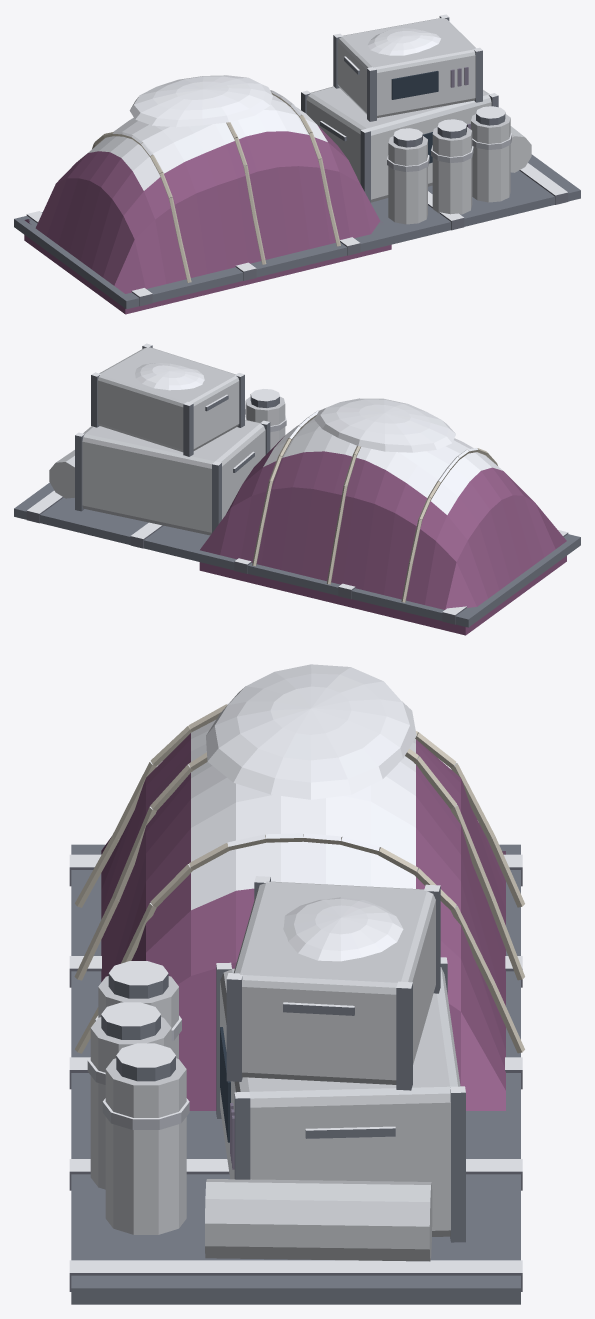
Rendered from PR_Cobertura_Carga.fbx.
3 views of the same model, one above another, from view 1: azimuth 30°, elevation 25°; view 2: azimuth 150°, elevation 25°; view 3: azimuth 270°, elevation 25° (orthographic). The views are drawn at different scales.
Visible parts, largest first — view 1: PR_Cobertura_Carga; view 2: PR_Cobertura_Carga; view 3: PR_Cobertura_Carga.
Boxes of the visible parts, x1=… form: PR_Cobertura_Carga: x1=14, y1=14, x2=580, y2=314; PR_Cobertura_Carga: x1=14, y1=343, x2=580, y2=635; PR_Cobertura_Carga: x1=69, y1=664, x2=524, y2=1304.
Bounding box in the file's own units: 7 × 2.28 × 3.04.
